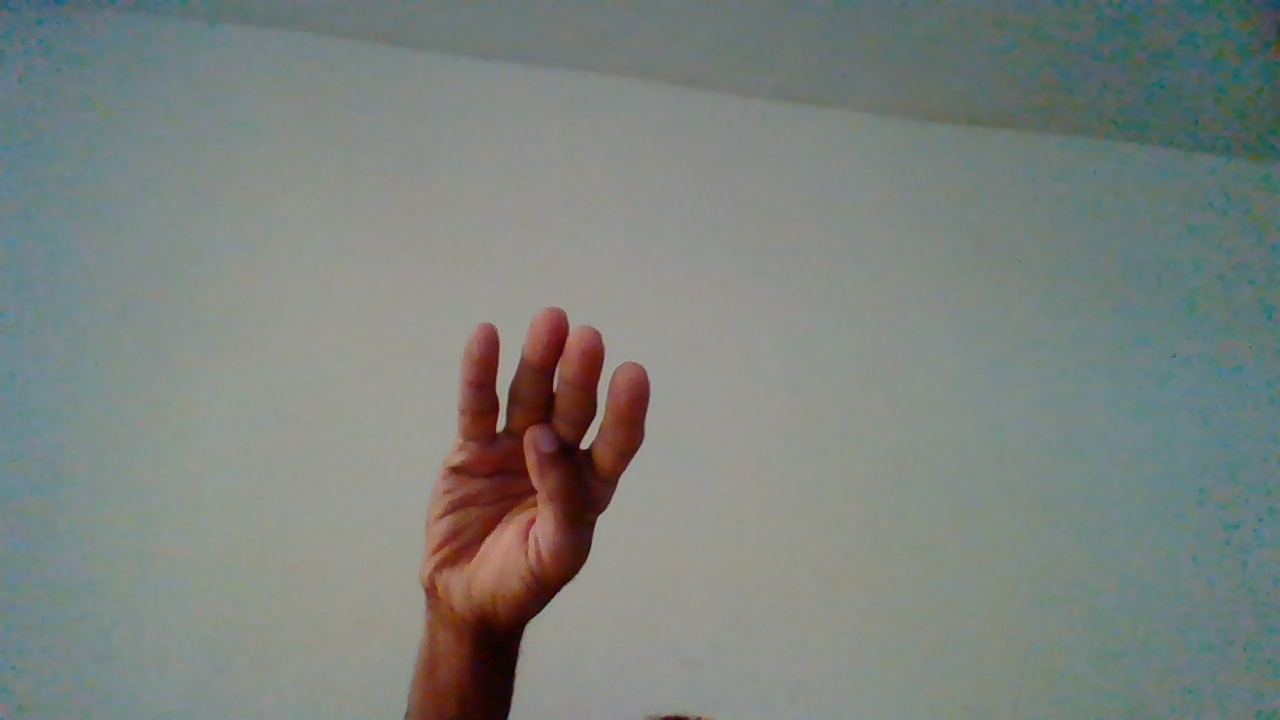me: (415, 312, 655, 697)
